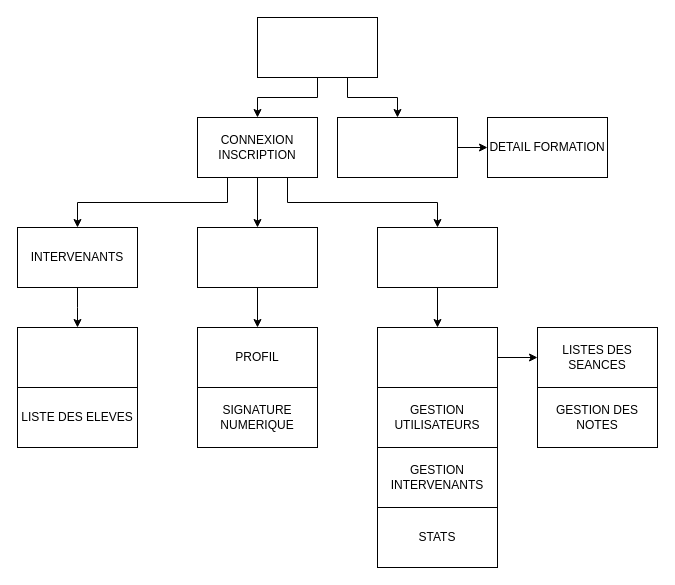
This 675x585 diagram has some shape labels left out. Here are the shapes that lost their labels. From the top down, the centre of each, then its label:
pixel 317 47: ACCUEIL
pixel 397 147: TOUTES LES FORMATIONS
pixel 257 257: UTILISATEUR
pixel 437 257: ADMIN
pixel 77 357: LISTE DES SEANCES
pixel 437 357: GESTION FORMATIONS
